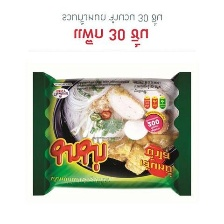snack: (24, 64, 199, 202)
